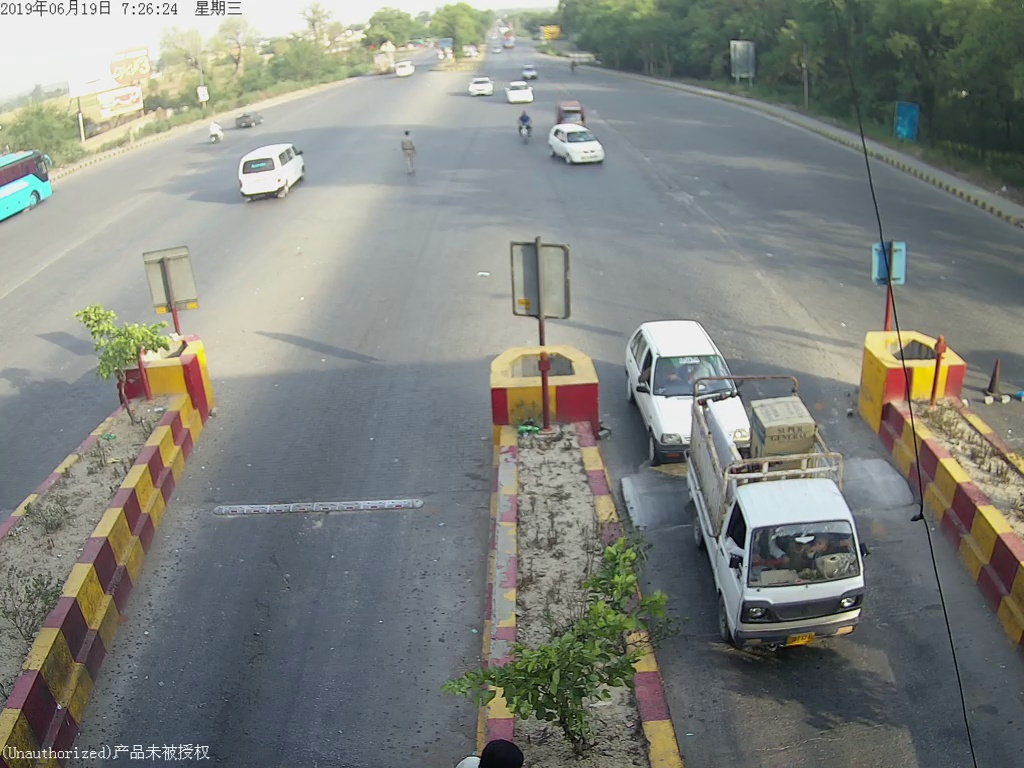Cat-1: (696, 388, 877, 655)
